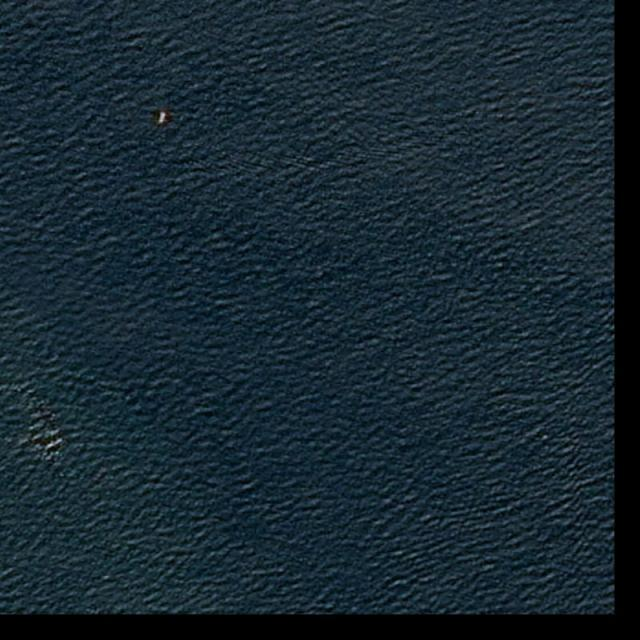ship: (157, 110, 167, 126)
